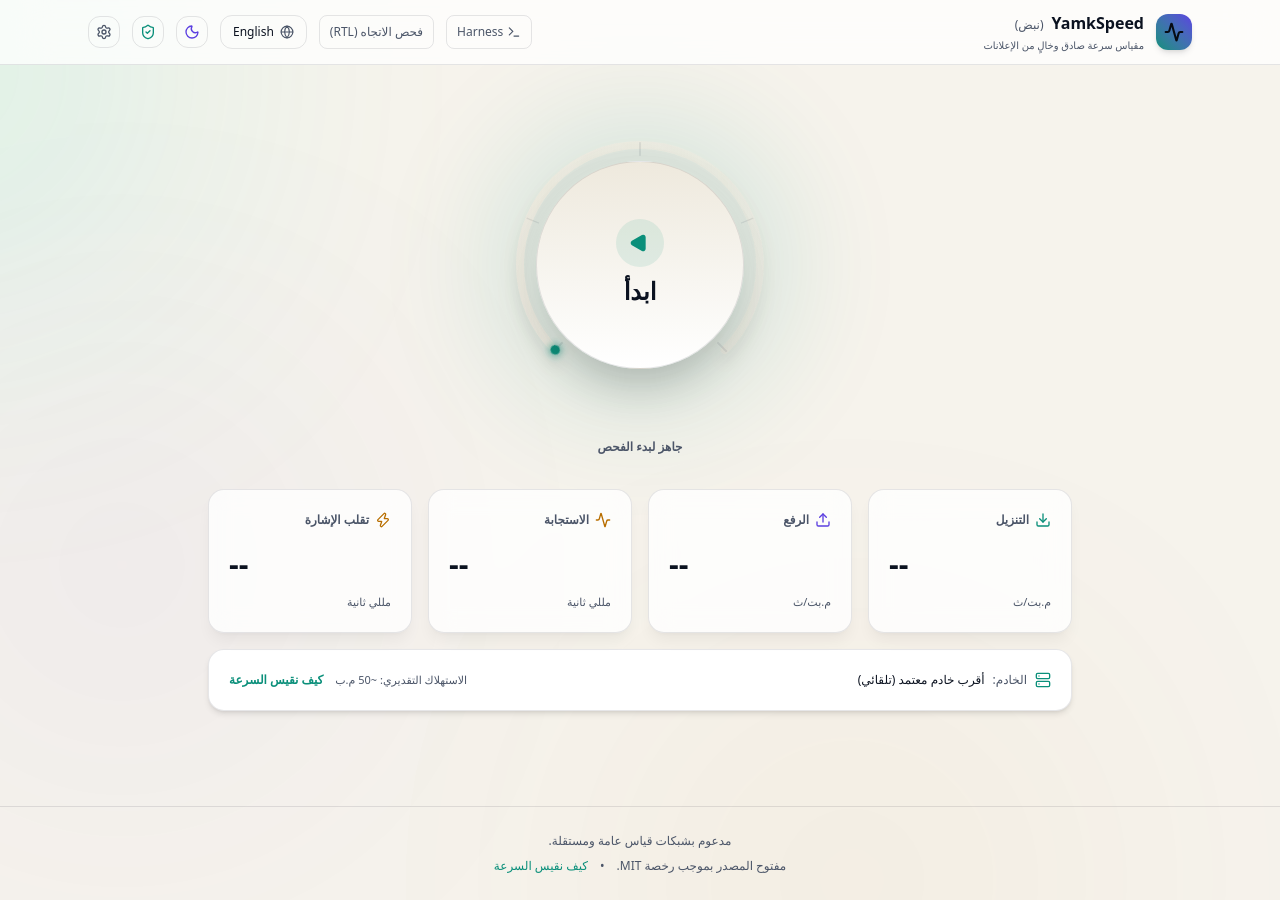
Test: App Smoke & Integration Test › opens and closes the How We Measure methodology dialog
Click the button named "كيف نقيس السرعة" at [148, 32], box [132,16,164,48]
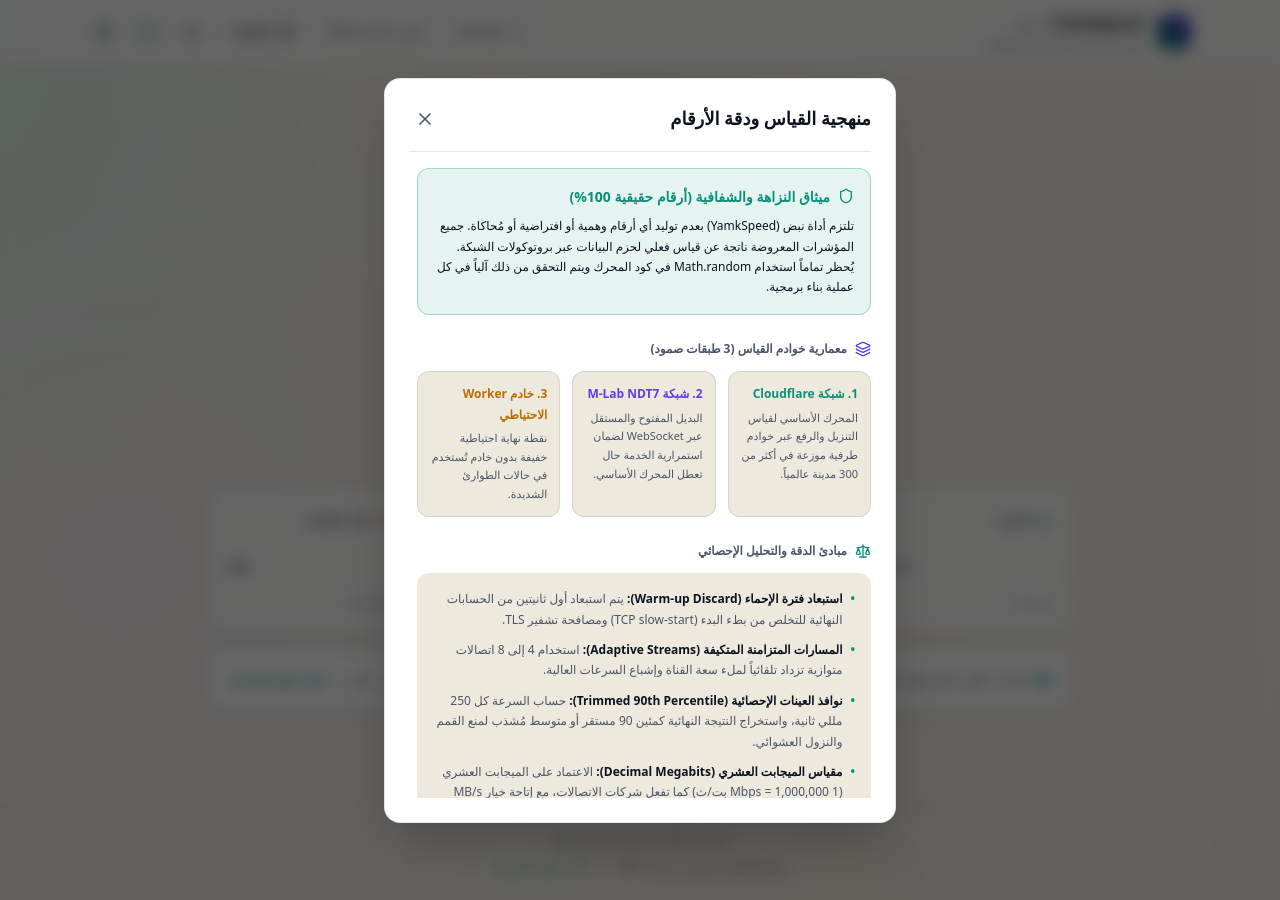
expect the heading "منهجية القياس ودقة الأرقام" is shown: met, box [670,103,871,134]
